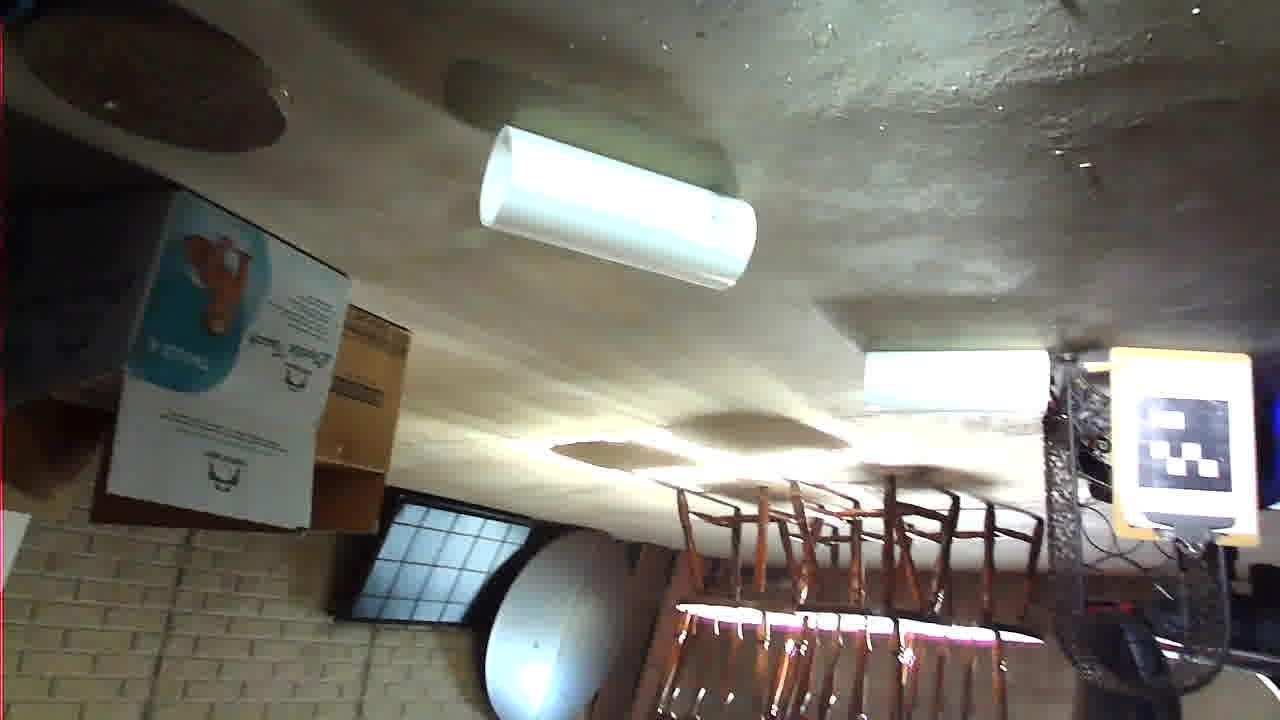coral: (522, 427, 800, 597), (230, 303, 416, 371)
